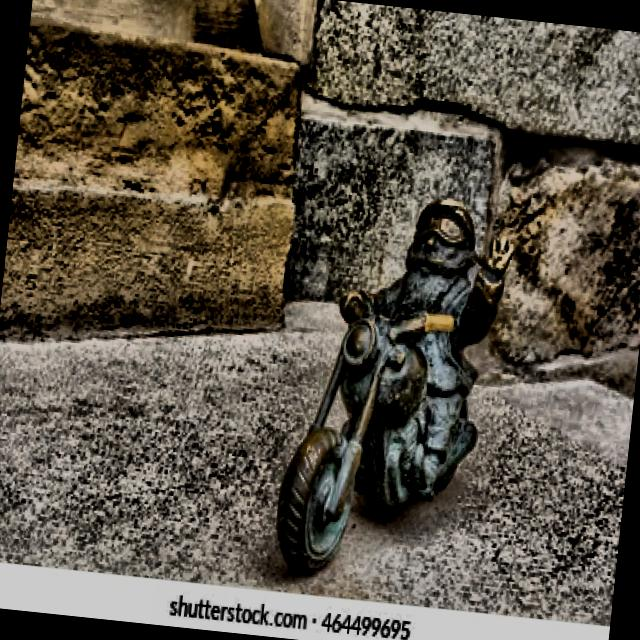Wentyl: (279, 199, 511, 572)
